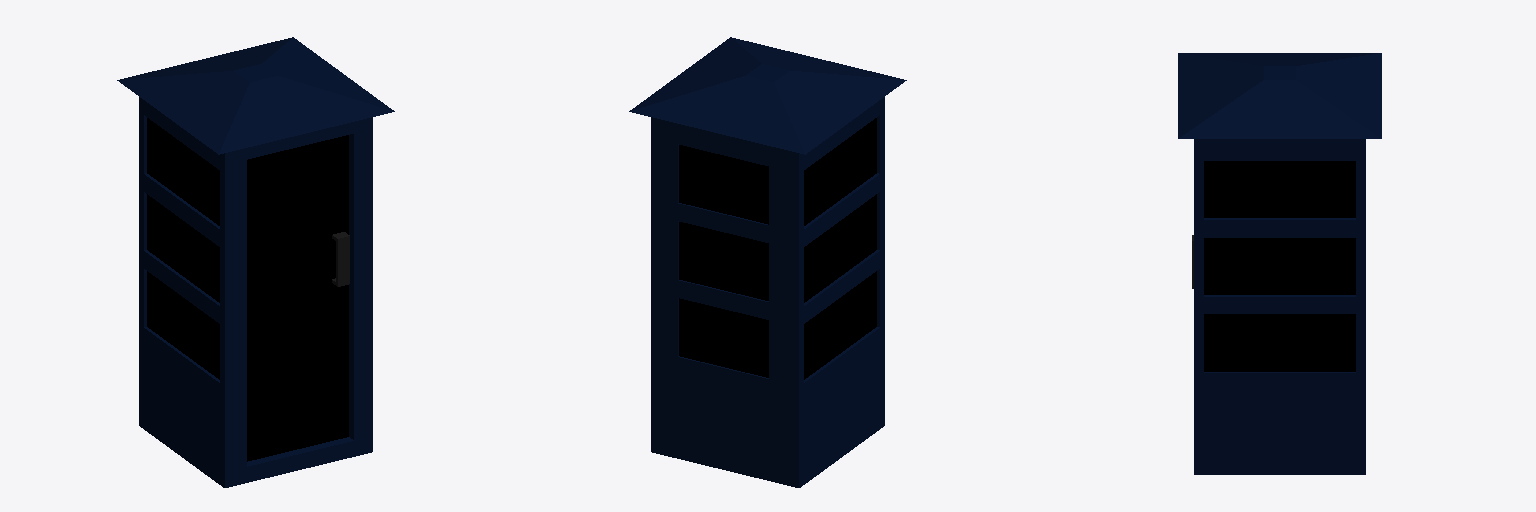
The model's file is PhoneBooth_01.obj.
3 renders of one model, left to right at view 1: azimuth 30°, elevation 25°; view 2: azimuth 150°, elevation 25°; view 3: azimuth 270°, elevation 25°, orthographic.
Visible parts, largest first — view 1: PhoneBooth_01_Cube.001; view 2: PhoneBooth_01_Cube.001; view 3: PhoneBooth_01_Cube.001.
Boxes of the visible parts, box(x1,y1,x2,y2) form: PhoneBooth_01_Cube.001: box(117, 37, 394, 487); PhoneBooth_01_Cube.001: box(629, 37, 906, 487); PhoneBooth_01_Cube.001: box(1178, 53, 1381, 474).
Size of the model in its own units: 7.68 by 15.21 by 7.68.